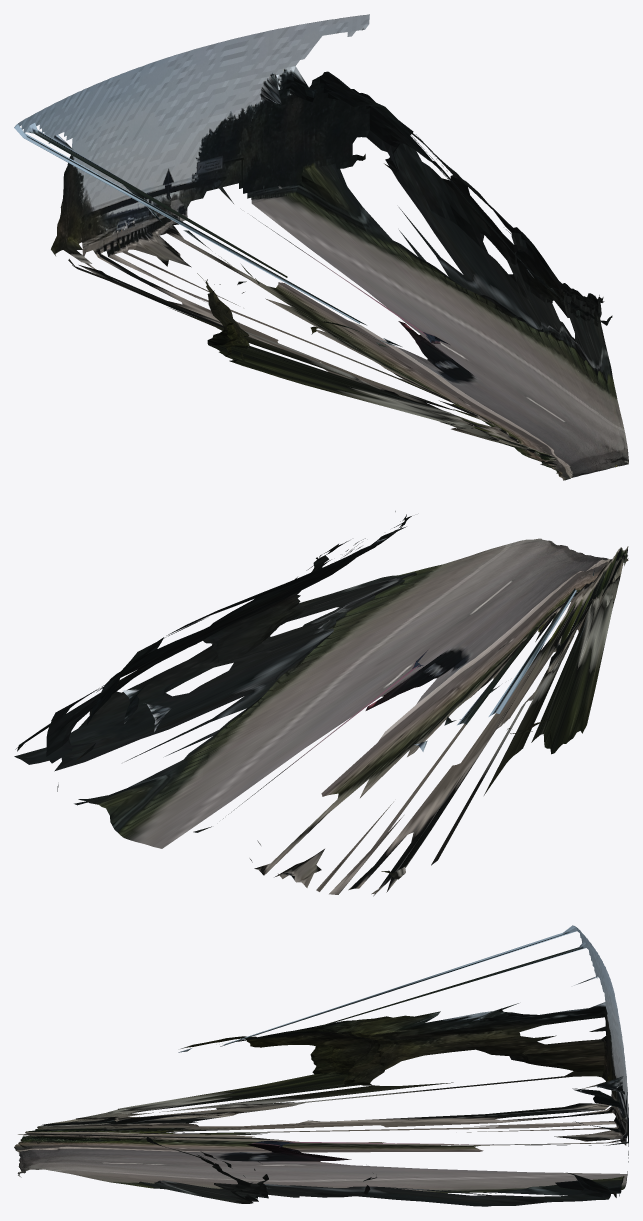
The picture shows the model from 3 angles, top to bottom: view 1: azimuth 30°, elevation 25°; view 2: azimuth 150°, elevation 25°; view 3: azimuth 270°, elevation 25°; orthographic projection. The views are drawn at different scales.
Parts seen in each view (by area): view 1: defaultobject; view 2: defaultobject; view 3: defaultobject.
Part boxes in pixels (box(x1,y1,x2,y2)): defaultobject: box(14, 14, 628, 480); defaultobject: box(14, 511, 628, 896); defaultobject: box(14, 925, 628, 1206).
Bounding box in the file's own units: 29.09 × 12.59 × 44.65.
1 material, 1 textured.
